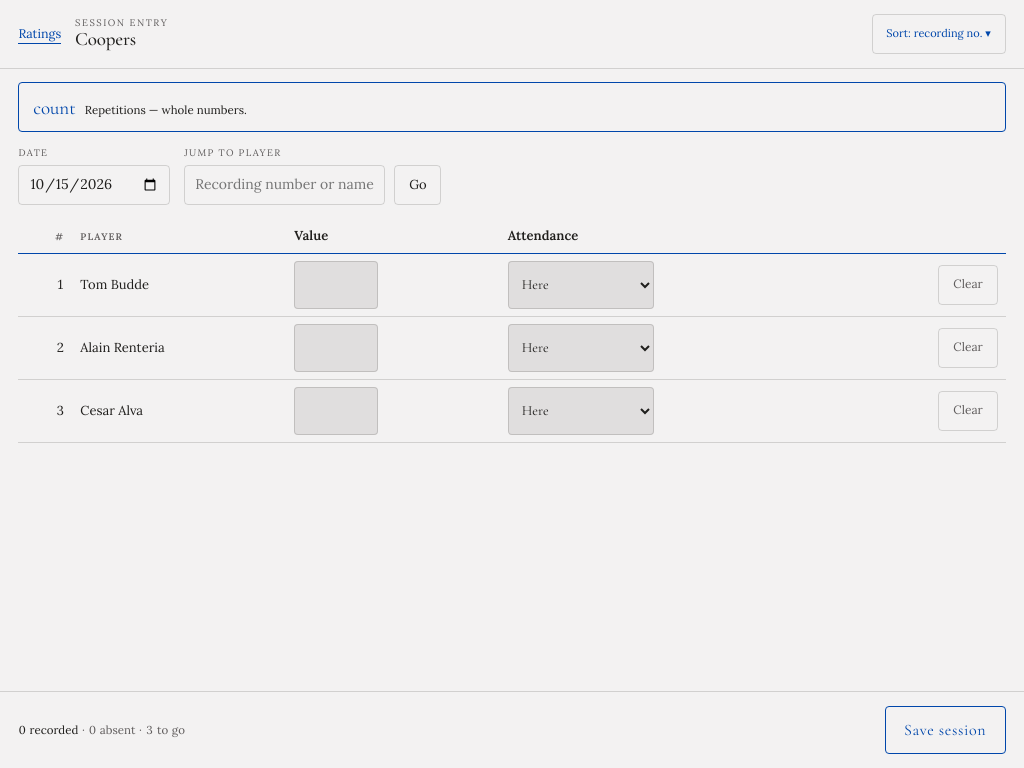
it: the jump box › says when a player is on the team but not in this list
Type "9" into the field labelled "Jump to player Go" at (285, 185), box [184, 165, 385, 205]
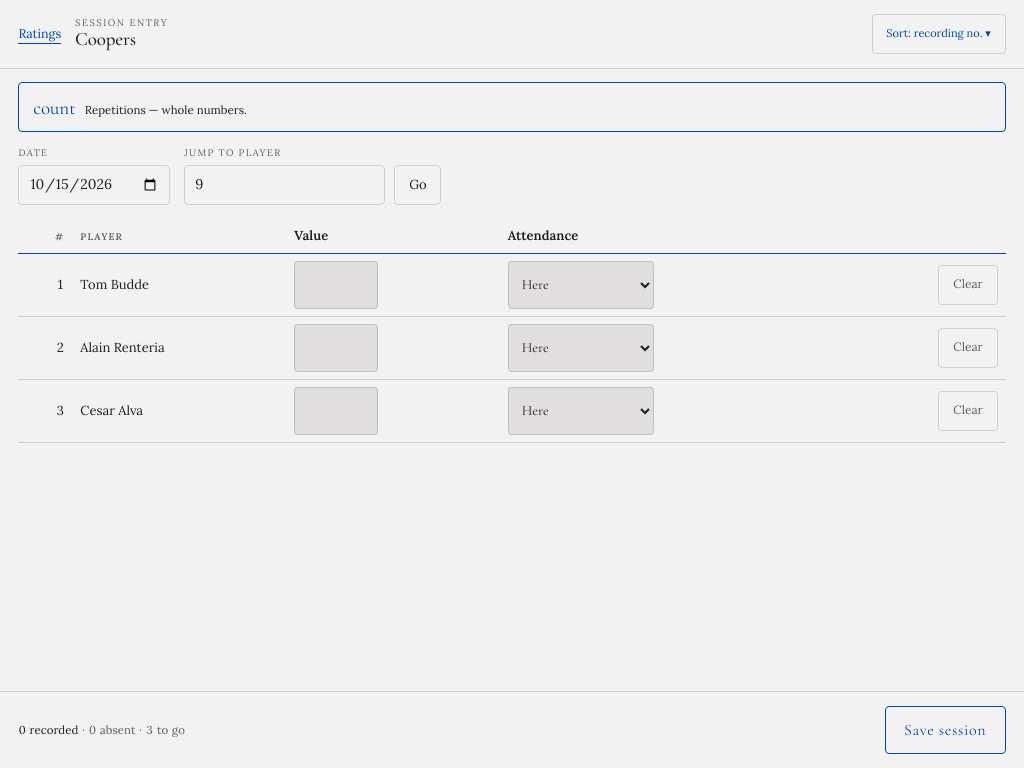
Click the button "Go" at (418, 185), box [394, 165, 442, 205]
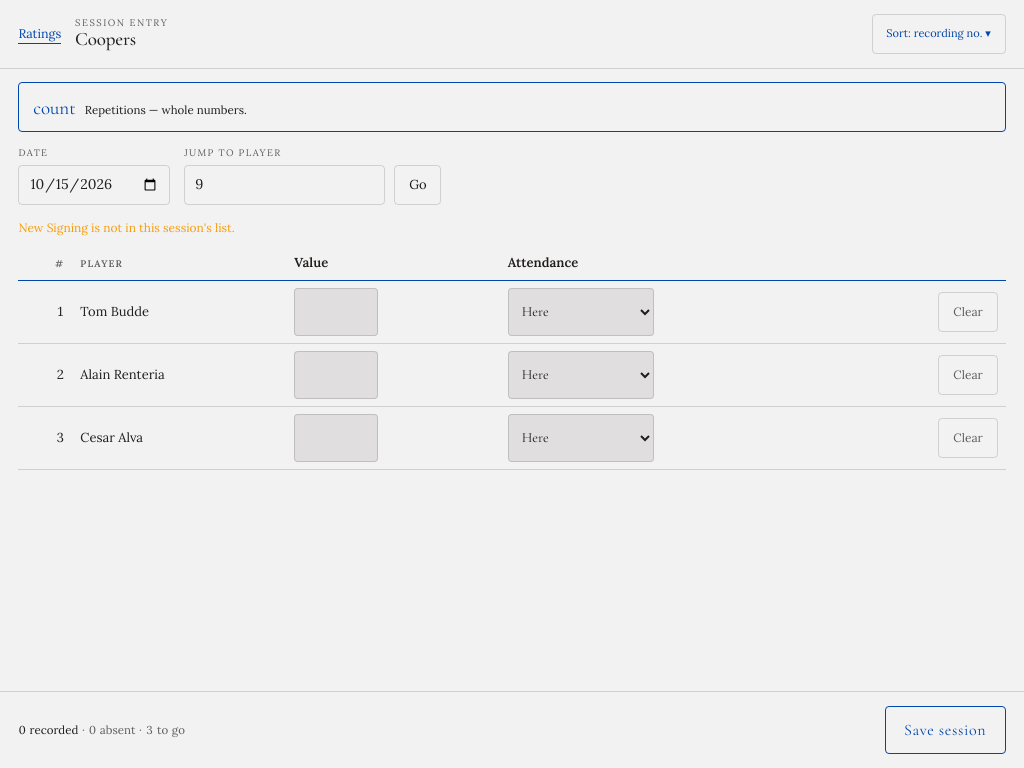
expect the message "New Signing is not in this session's list." is shown: met, box [18, 220, 235, 234]
